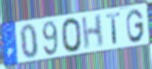0: (18, 23, 40, 61)
9: (40, 20, 59, 57)
G: (126, 8, 146, 44)
H: (80, 12, 104, 51)
O: (61, 17, 84, 54)
T: (105, 11, 122, 46)
